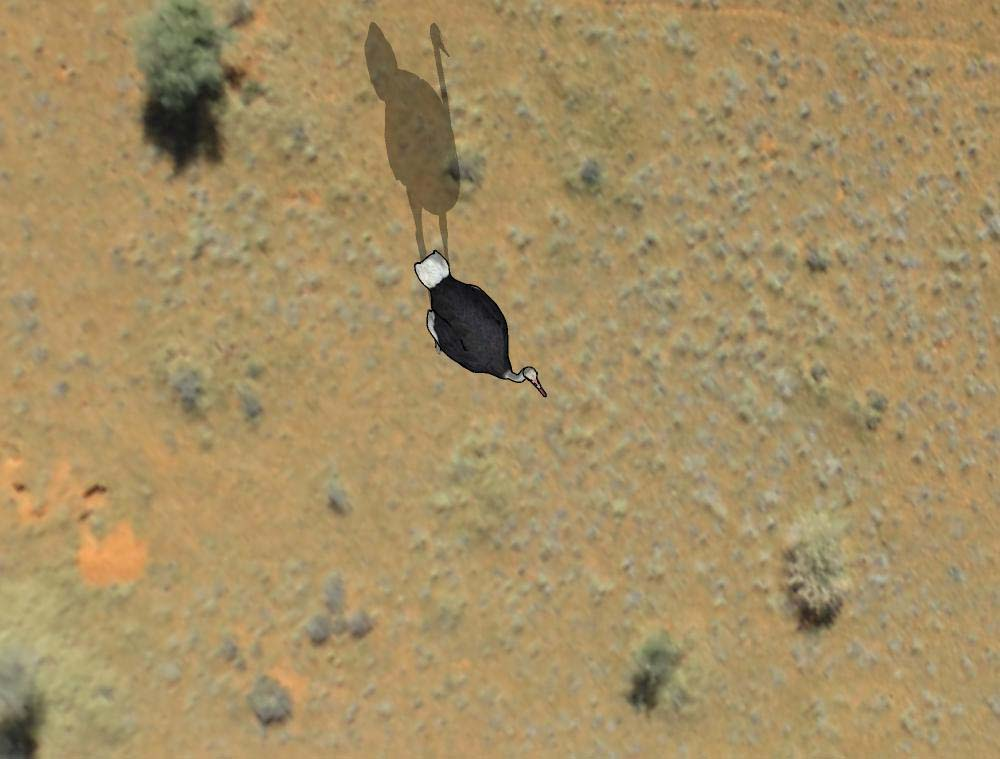ostrich: (408, 244, 550, 402)
